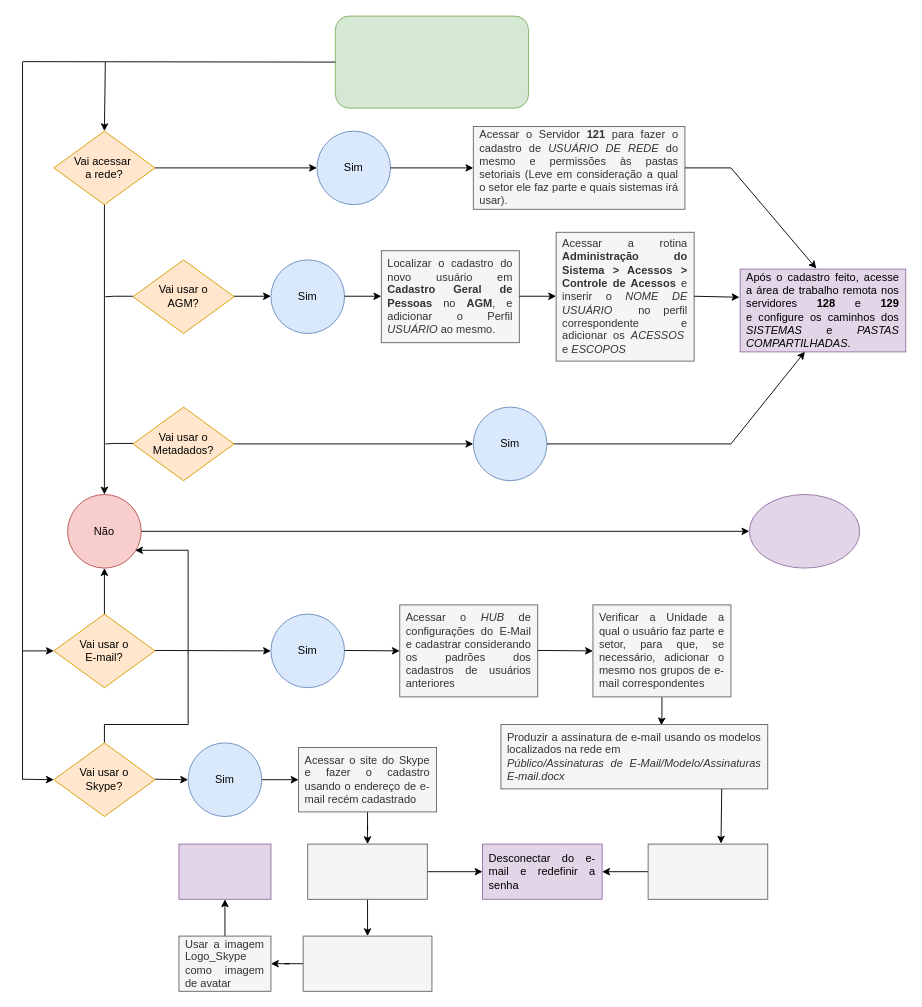
The diagram is 922 pixels wide and 1007 high, and some of its shapes have lost their labels. The centre of each missing label's shape, as x and y in pixels:
"Acessar o e-mail para pegar o código de ativação do Skype" goes at [367,871].
"Acessar o e-mail recém criado para instalar a assinatura" goes at [707,871].
"Adicionar o contato no Grupo Suporte" goes at [224,871].
"Ativar o Skype usando o código que chegou no e-mail" goes at [367,963].
"Nada a fazer" goes at [804,531].
"Novo Usuário e Novos Acessos" goes at [431,61].
